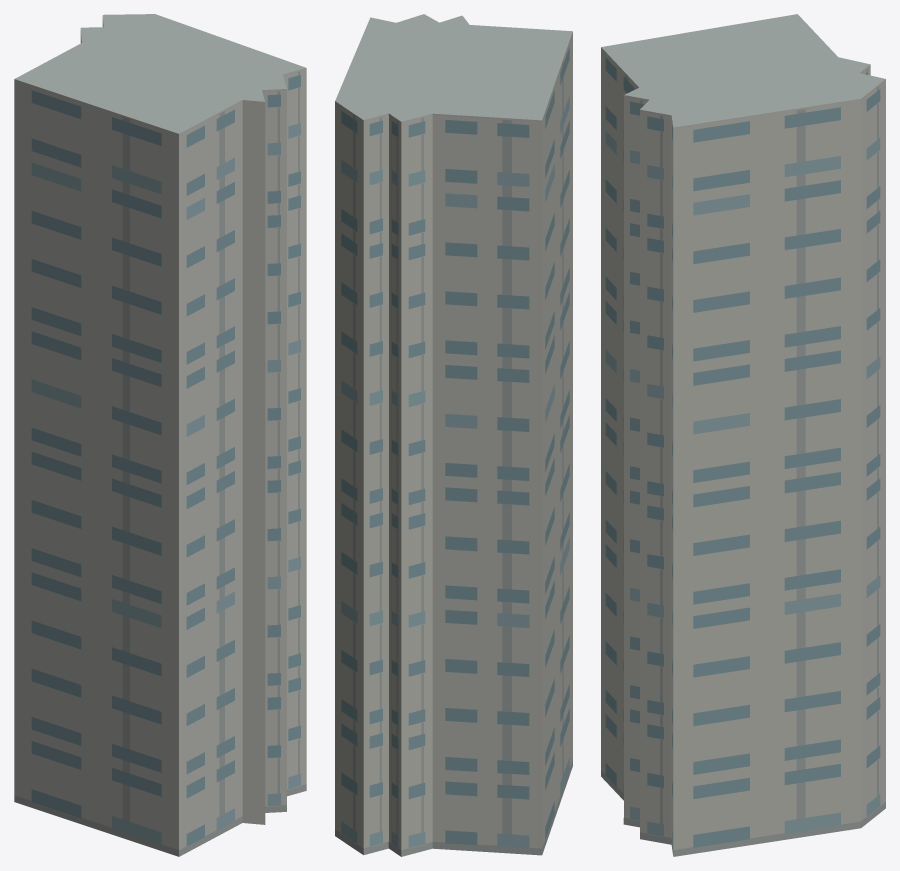
The model's file is residential-06aeb404-c35b-4020-829c-fc52a14ca5f2.glb.
The picture shows the model from 3 angles, left to right: view 1: azimuth 30°, elevation 25°; view 2: azimuth 150°, elevation 25°; view 3: azimuth 270°, elevation 25°; orthographic projection.
Visible parts, largest first — view 1: residential-06aeb404-c35b-4020-829c-fc52a14ca5f2.tmp; view 2: residential-06aeb404-c35b-4020-829c-fc52a14ca5f2.tmp; view 3: residential-06aeb404-c35b-4020-829c-fc52a14ca5f2.tmp.
Part boxes in pixels (x1,y1,x2,y2): residential-06aeb404-c35b-4020-829c-fc52a14ca5f2.tmp: [14, 14, 306, 856]; residential-06aeb404-c35b-4020-829c-fc52a14ca5f2.tmp: [335, 14, 572, 856]; residential-06aeb404-c35b-4020-829c-fc52a14ca5f2.tmp: [601, 14, 885, 856].
Bounding box in the file's own units: 33.38 × 100 × 35.4.
